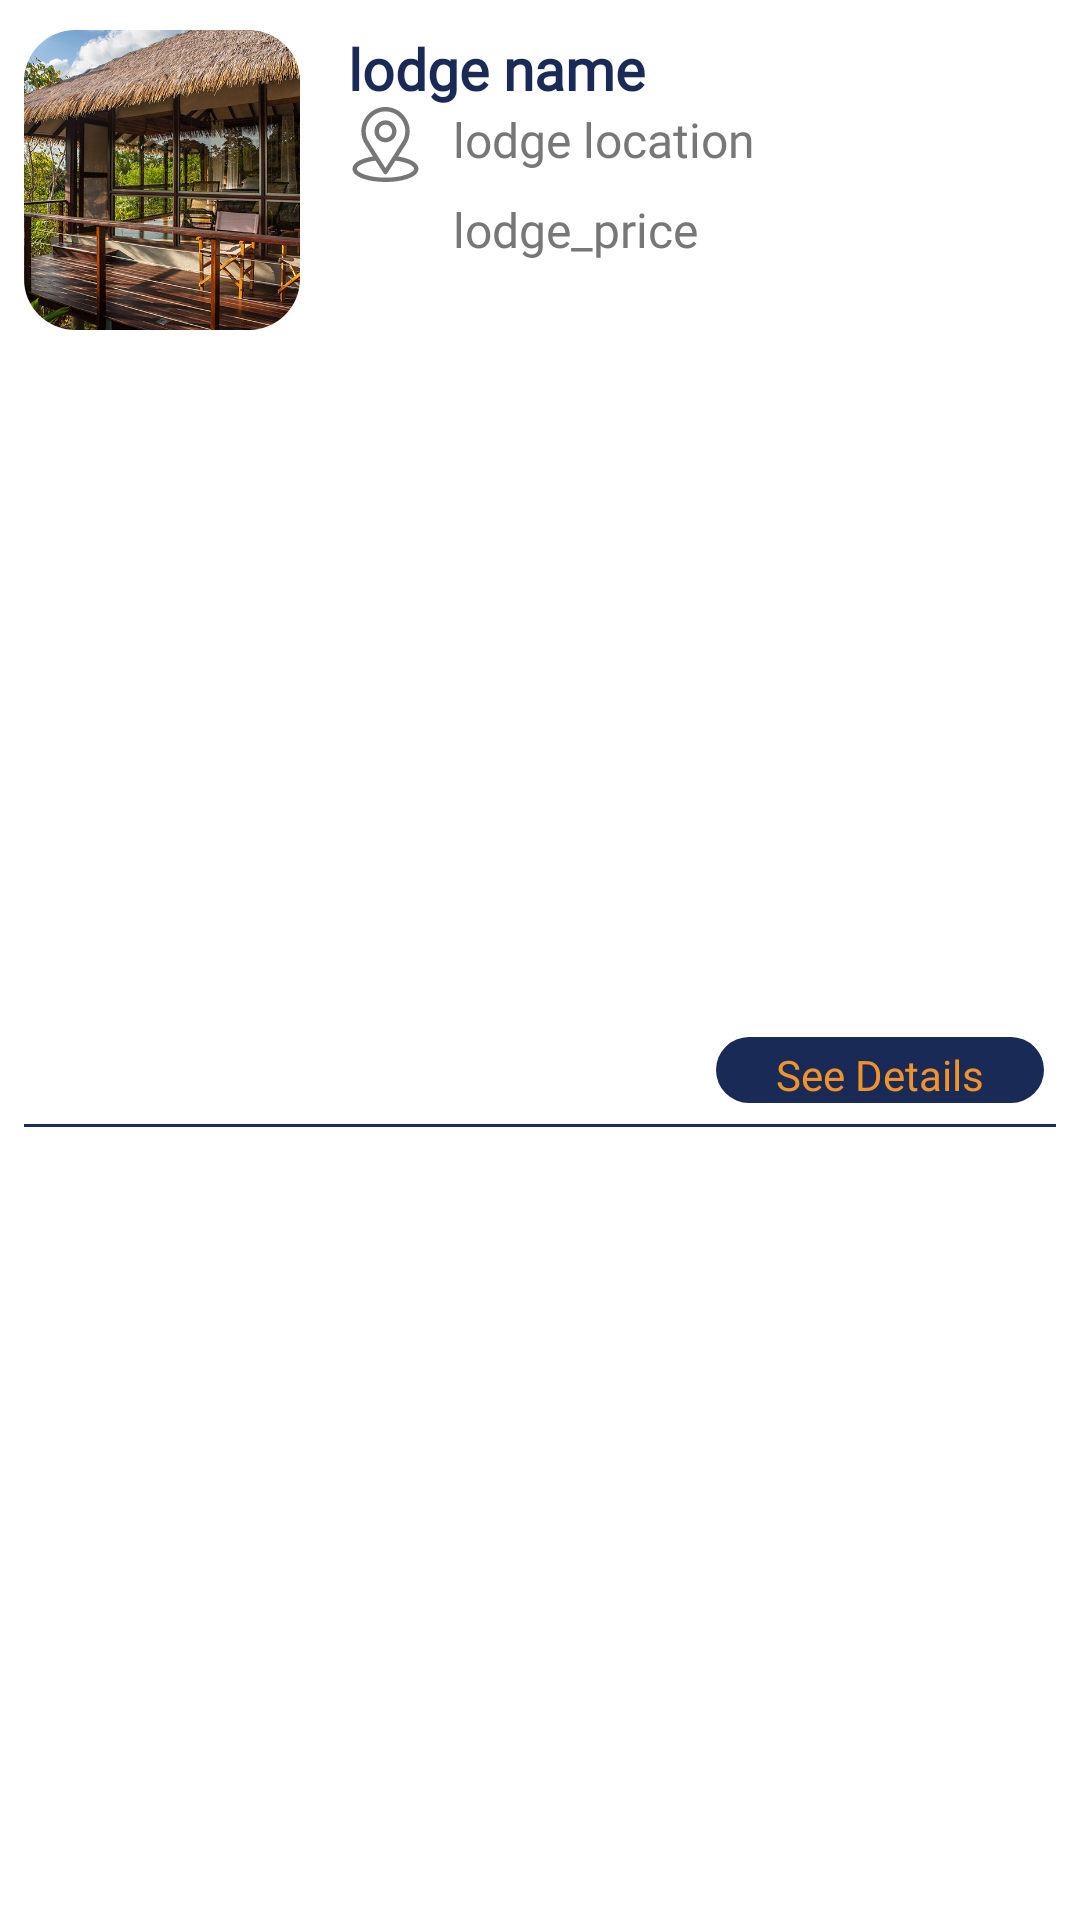

Icon click points for this 1080 x 1920 phone screenshot, format (x=x, y=y):
cabana village side: (x=162, y=180)
locationdrawable: (x=385, y=144)
